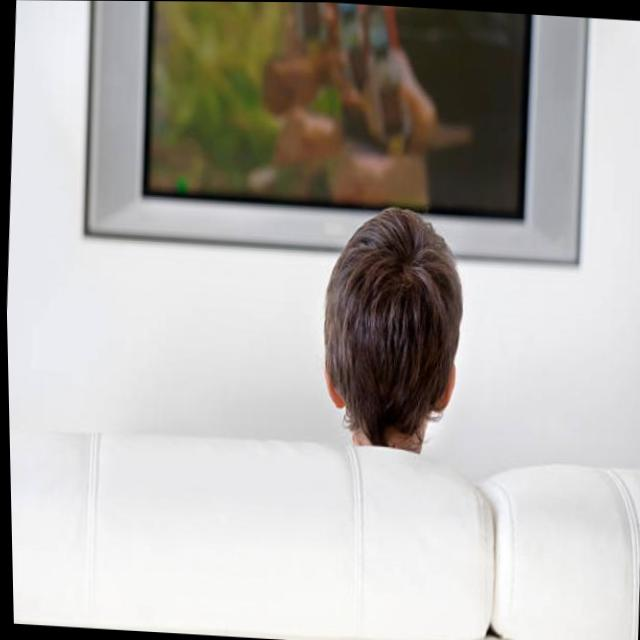no helmet: (312, 198, 469, 462)
